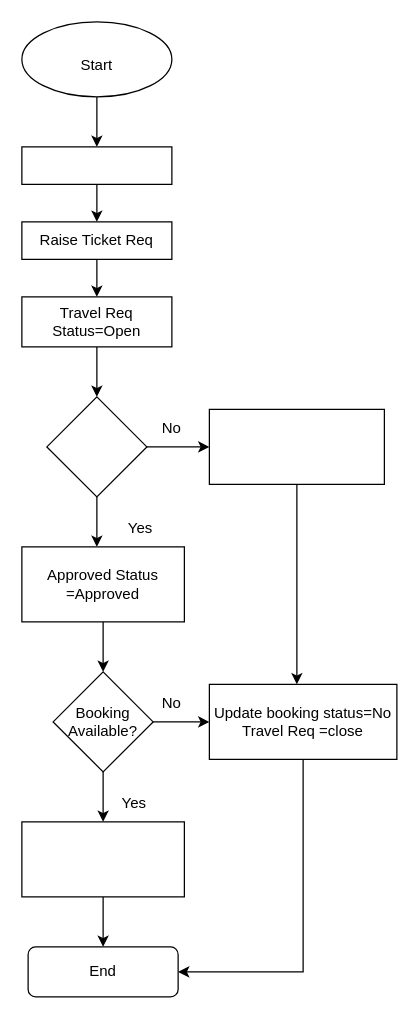
The diagram is 419 pixels wide and 1019 high, and some of its shapes have lost their labels. The box of each missing label's shape, as (x1, y1, x2, y2) in pixels:
Add Employee: (21, 146, 172, 184)
Approved?: (46, 396, 147, 497)
Upadate Travel req =closed & booking =yes: (21, 821, 184, 897)
Update Travel Req =Not approved Status=closed: (208, 408, 384, 484)
